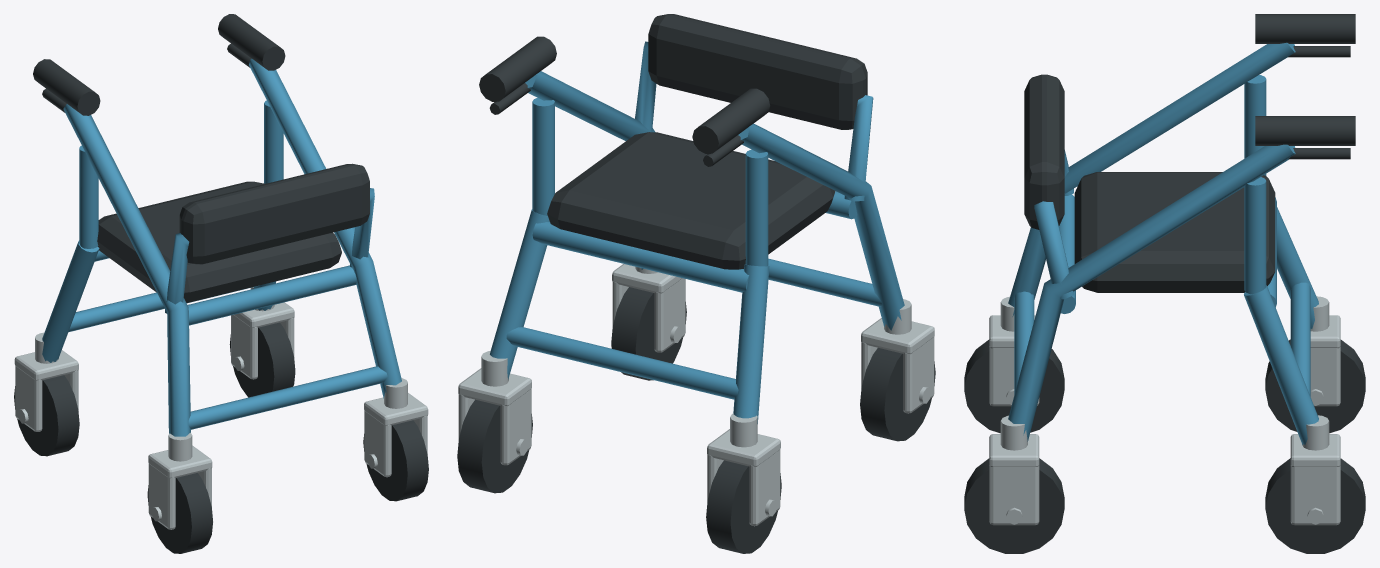
The model's file is walking_chair.glb.
3 renders of one model, left to right at view 1: azimuth 30°, elevation 25°; view 2: azimuth 150°, elevation 25°; view 3: azimuth 270°, elevation 25°, orthographic. The views are drawn at different scales.
Visible parts, largest first — view 1: Rollator padded backrest, Rollator padded seat, Rollator main side frame, Rollator main side frame.001, Rollator lower front brace, Rollator seat crossbar, Rollator caster tire, Rollator caster tire.002, Rollator caster tire.001, Rollator caster tire.003, Rollator rear leg, Rollator handle grip.001 (+15 smaller); view 2: Rollator padded seat, Rollator padded backrest, Rollator main side frame, Rollator lower rear brace, Rollator seat crossbar.001, Rollator caster tire.001, Rollator caster tire.003, Rollator caster tire, Rollator rear leg, Rollator rear leg.001, Rollator main side frame.001, Rollator caster tire.002 (+16 smaller); view 3: Rollator padded seat, Rollator main side frame.001, Rollator main side frame, Rollator padded backrest, Rollator caster tire.002, Rollator caster tire.003, Rollator rear leg.001, Rollator caster tire, Rollator caster tire.001, Rollator handle grip, Rollator handle grip.001, Rollator caster fork cheek.005 (+19 smaller).
Boxes of the visible parts, <box> form: Rollator padded backrest: <box>179,163,369,264</box>; Rollator padded seat: <box>97,181,341,302</box>; Rollator main side frame: <box>63,104,190,436</box>; Rollator main side frame.001: <box>249,58,401,398</box>; Rollator lower front brace: <box>188,366,387,429</box>; Rollator seat crossbar: <box>187,265,356,325</box>; Rollator caster tire: <box>147,473,212,553</box>; Rollator caster tire.002: <box>363,420,428,501</box>; Rollator caster tire.001: <box>14,375,79,456</box>; Rollator caster tire.003: <box>229,322,295,397</box>; Rollator rear leg: <box>42,240,99,362</box>; Rollator handle grip.001: <box>218,14,285,70</box>; Rollator padded seat: <box>547,132,835,269</box>; Rollator padded backrest: <box>648,14,867,129</box>; Rollator main side frame: <box>738,123,904,330</box>; Rollator lower rear brace: <box>506,327,738,399</box>; Rollator seat crossbar.001: <box>532,222,749,292</box>; Rollator caster tire.001: <box>706,460,781,553</box>; Rollator caster tire.003: <box>457,399,532,493</box>; Rollator caster tire: <box>860,348,935,441</box>; Rollator rear leg: <box>733,264,769,423</box>; Rollator rear leg.001: <box>490,209,549,379</box>; Rollator main side frame.001: <box>525,71,655,269</box>; Rollator caster tire.002: <box>611,287,686,380</box>; Rollator padded seat: <box>1074,172,1275,292</box>; Rollator main side frame.001: <box>1008,144,1295,441</box>; Rollator main side frame: <box>1008,42,1295,316</box>; Rollator padded backrest: <box>1024,74,1064,229</box>; Rollator caster tire.002: <box>964,458,1064,553</box>; Rollator caster tire.003: <box>1265,458,1365,553</box>; Rollator rear leg.001: <box>1244,285,1318,444</box>; Rollator caster tire: <box>964,339,1064,433</box>; Rollator caster tire.001: <box>1265,339,1365,433</box>; Rollator handle grip: <box>1255,14,1355,43</box>; Rollator handle grip.001: <box>1255,116,1355,145</box>; Rollator caster fork cheek.005: <box>989,465,1039,525</box>.
Bounding box in the file's own units: 0.69 × 0.9285 × 0.8.
